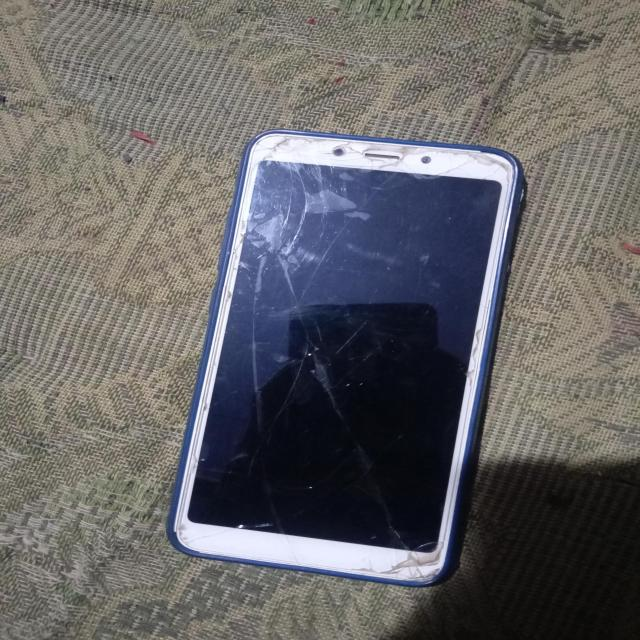mobile: (82, 104, 576, 598)
